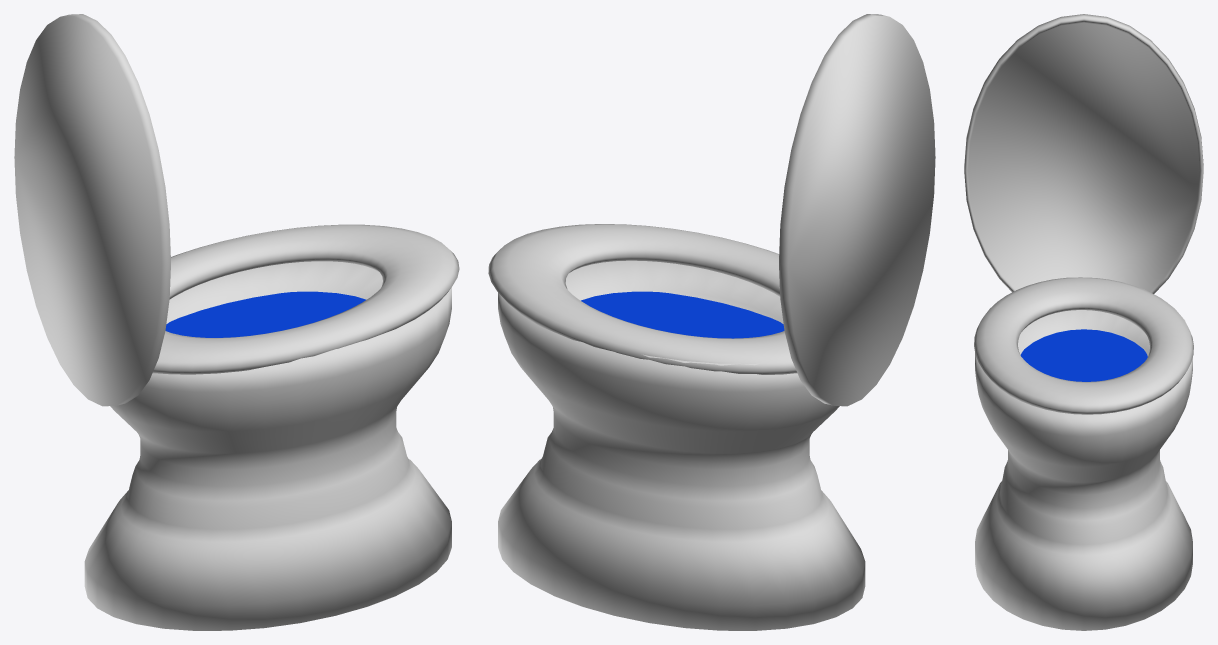
Rendered from Toilet.fbx.
The picture shows the model from 3 angles, left to right: view 1: azimuth 30°, elevation 25°; view 2: azimuth 150°, elevation 25°; view 3: azimuth 270°, elevation 25°; orthographic projection. The views are drawn at different scales.
Visible parts, largest first — view 1: Toilet; view 2: Toilet; view 3: Toilet.
Boxes of the visible parts, box(x1,y1,x2,y2) form: Toilet: box(14, 14, 459, 630); Toilet: box(488, 14, 935, 630); Toilet: box(964, 14, 1203, 630).
Size of the model in its own units: 282 by 440 by 200.
